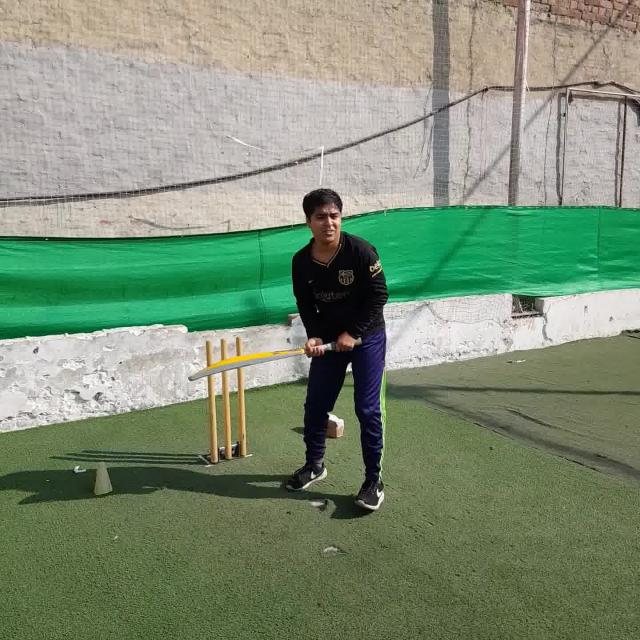bat: (189, 338, 362, 382)
